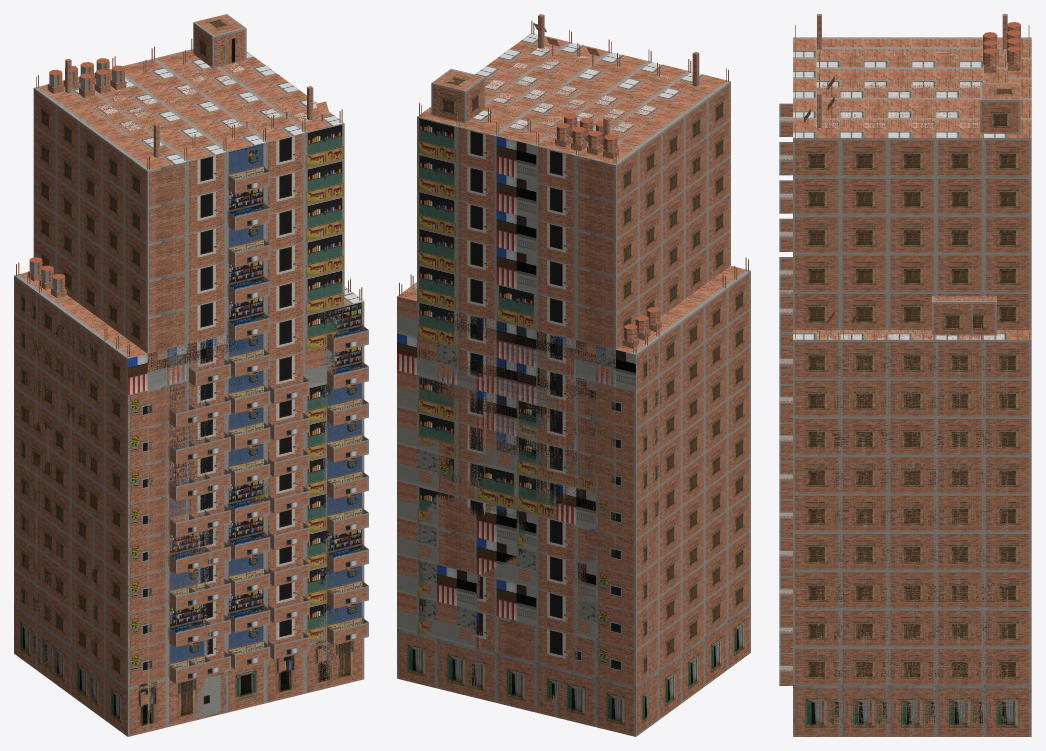
3 renders of one model, left to right at view 1: azimuth 30°, elevation 25°; view 2: azimuth 150°, elevation 25°; view 3: azimuth 270°, elevation 25°, orthographic. The views are drawn at different scales.
Parts seen in each view (by area): view 1: Brick_5x5_f14_v0, Brick_6x5_f8_v1, Brick_6x4_f9_v1, Brick_5x5_f8_v0, Brick_6x5_f9_v0, Brick_4x4_f14_v1, Brick_6x3_f9_v1, Brick_3x5_f9_v1; view 2: Brick_5x5_f14_v0, Brick_6x5_f8_v1, Brick_6x5_f9_v0, Brick_4x4_f14_v1, Brick_6x4_f9_v1, Brick_6x3_f9_v1; view 3: Brick_6x5_f8_v1, Brick_5x5_f14_v0, Brick_6x4_f9_v1, Brick_4x4_f14_v1, Brick_6x3_f9_v1, Brick_6x5_f9_v0, Brick_5x5_f8_v0.
Part boxes in pixels (left/top/right/bottom): Brick_5x5_f14_v0: left=33, top=14, right=344, bottom=731; Brick_6x5_f8_v1: left=14, top=312, right=368, bottom=736; Brick_6x4_f9_v1: left=25, top=265, right=352, bottom=712; Brick_5x5_f8_v0: left=189, top=376, right=309, bottom=678; Brick_6x5_f9_v0: left=14, top=257, right=368, bottom=394; Brick_4x4_f14_v1: left=65, top=50, right=313, bottom=157; Brick_6x3_f9_v1: left=37, top=274, right=124, bottom=377; Brick_3x5_f9_v1: left=189, top=359, right=230, bottom=386; Brick_5x5_f14_v0: left=417, top=20, right=730, bottom=712; Brick_6x5_f8_v1: left=397, top=308, right=750, bottom=736; Brick_6x5_f9_v0: left=397, top=257, right=750, bottom=391; Brick_4x4_f14_v1: left=449, top=14, right=699, bottom=150; Brick_6x4_f9_v1: left=410, top=266, right=737, bottom=728; Brick_6x3_f9_v1: left=647, top=274, right=727, bottom=374; Brick_6x5_f8_v1: left=779, top=328, right=1031, bottom=736; Brick_5x5_f14_v0: left=779, top=22, right=1031, bottom=345; Brick_6x4_f9_v1: left=816, top=296, right=1007, bottom=736; Brick_4x4_f14_v1: left=816, top=14, right=1007, bottom=127; Brick_6x3_f9_v1: left=840, top=296, right=983, bottom=378; Brick_6x5_f9_v0: left=779, top=311, right=1031, bottom=379; Brick_5x5_f8_v0: left=779, top=331, right=792, bottom=652.
Bounding box in the file's own units: 21 × 50.3 × 18.5.
Materials: 1 (1 with a texture image).
